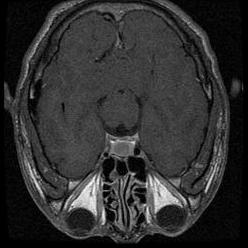Tumour-Pituitary: (101, 130, 146, 160)
